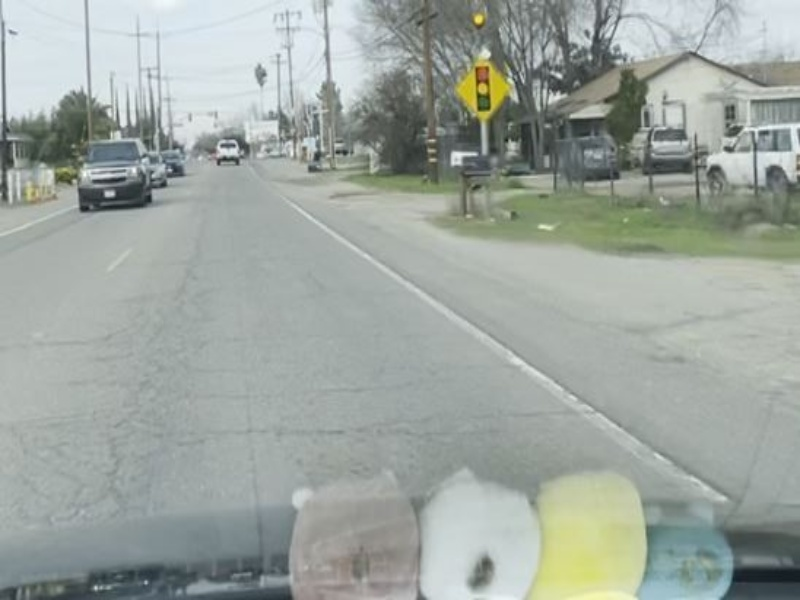street light sign: (453, 53, 515, 121)
